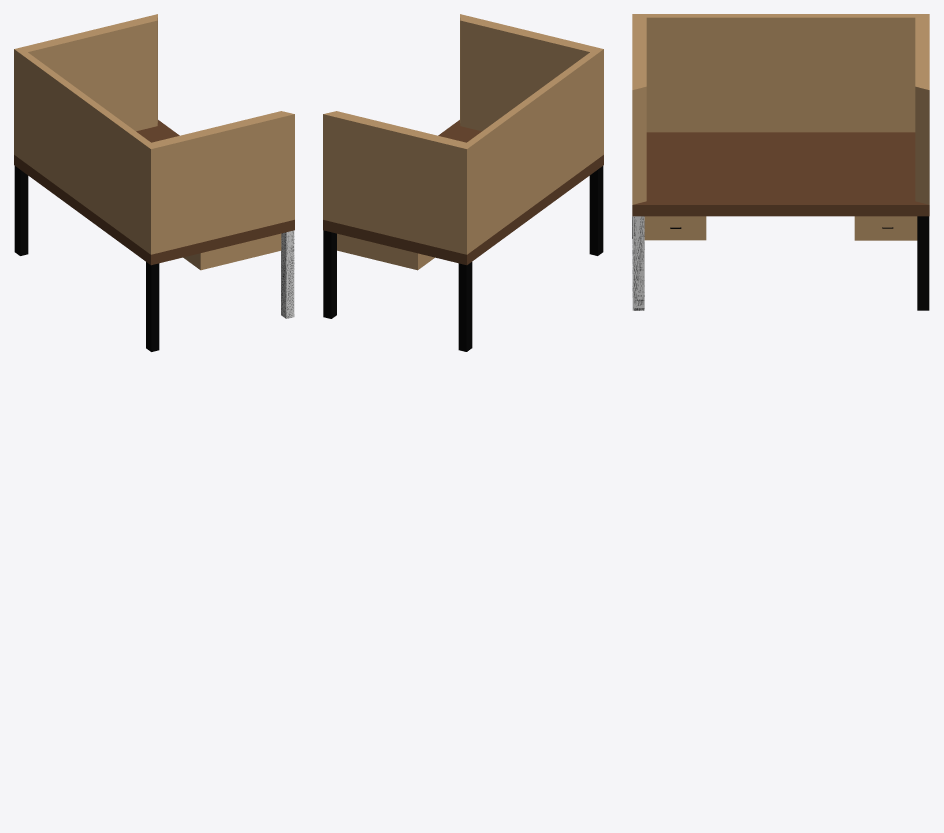
Rendered from CoveredOfficeTable.glb.
The picture shows the model from 3 angles, left to right: view 1: azimuth 30°, elevation 25°; view 2: azimuth 150°, elevation 25°; view 3: azimuth 270°, elevation 25°; orthographic projection. The views are drawn at different scales.
Parts seen in each view (by area): view 1: Office_Table; view 2: Office_Table; view 3: Office_Table.
Part boxes in pixels (box(x1,y1,x2,y2)): Office_Table: box(14, 14, 294, 351); Office_Table: box(323, 14, 603, 351); Office_Table: box(632, 14, 929, 310).
Bounding box in the file's own units: 2.08 × 9.25 × 3.41.
